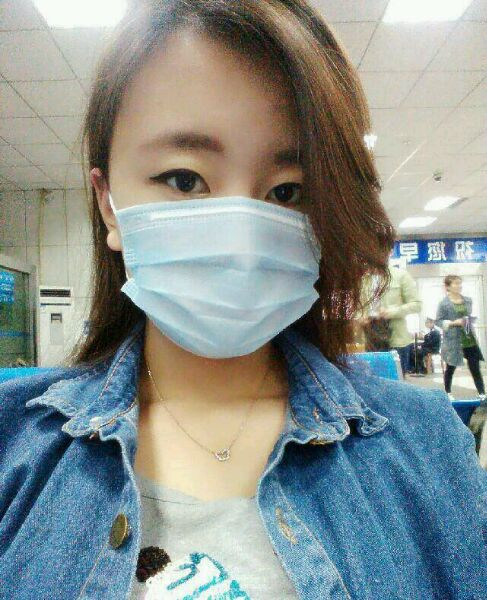face_mask: (110, 38, 322, 362)
